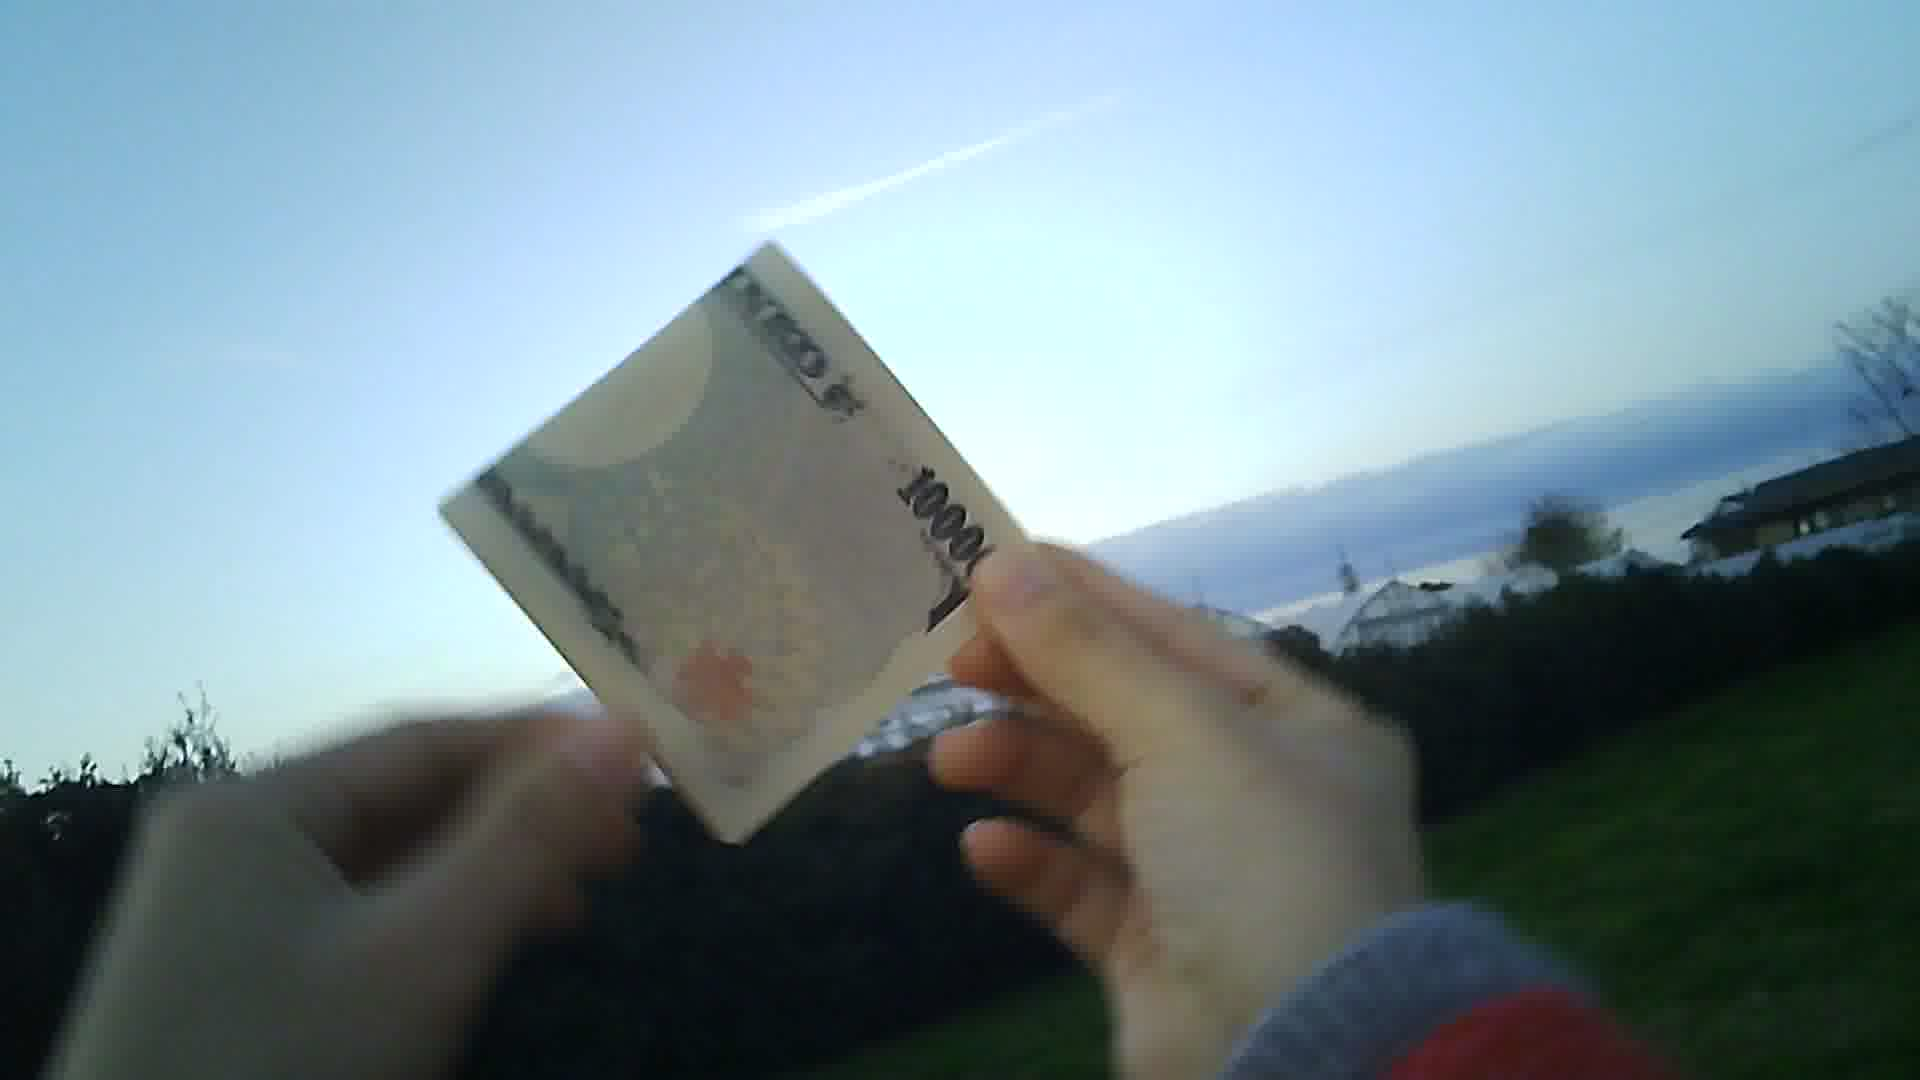10,000 Yen: (396, 219, 1054, 837)
